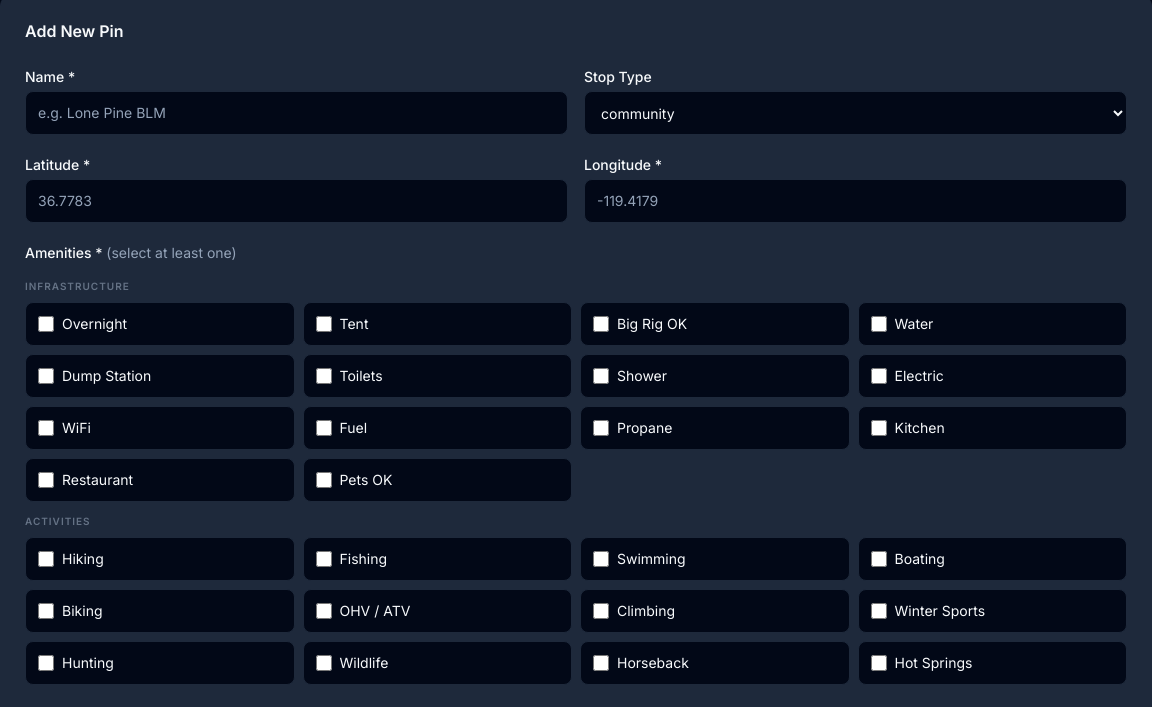
Test: CreatePinForm › shows required field error when name is empty on submit (4.4)
This screenshot has width=1152, height=707.
Note: Fill lat/lng and amenity but leave name empty
Type "37.5" into the number field labelled "Latitude *". click: (296, 201)
box: [25,179,568,223]
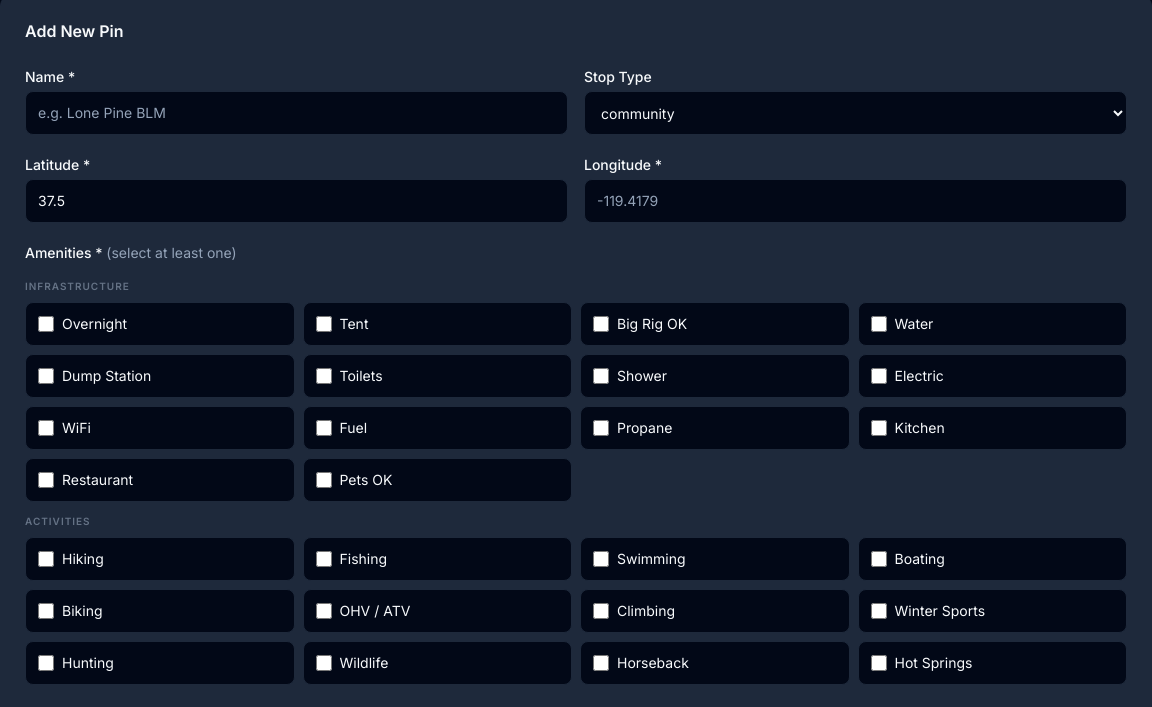
Type "-107.5" into the number field labelled "Longitude *". click: (856, 201)
box: [584,179,1127,223]
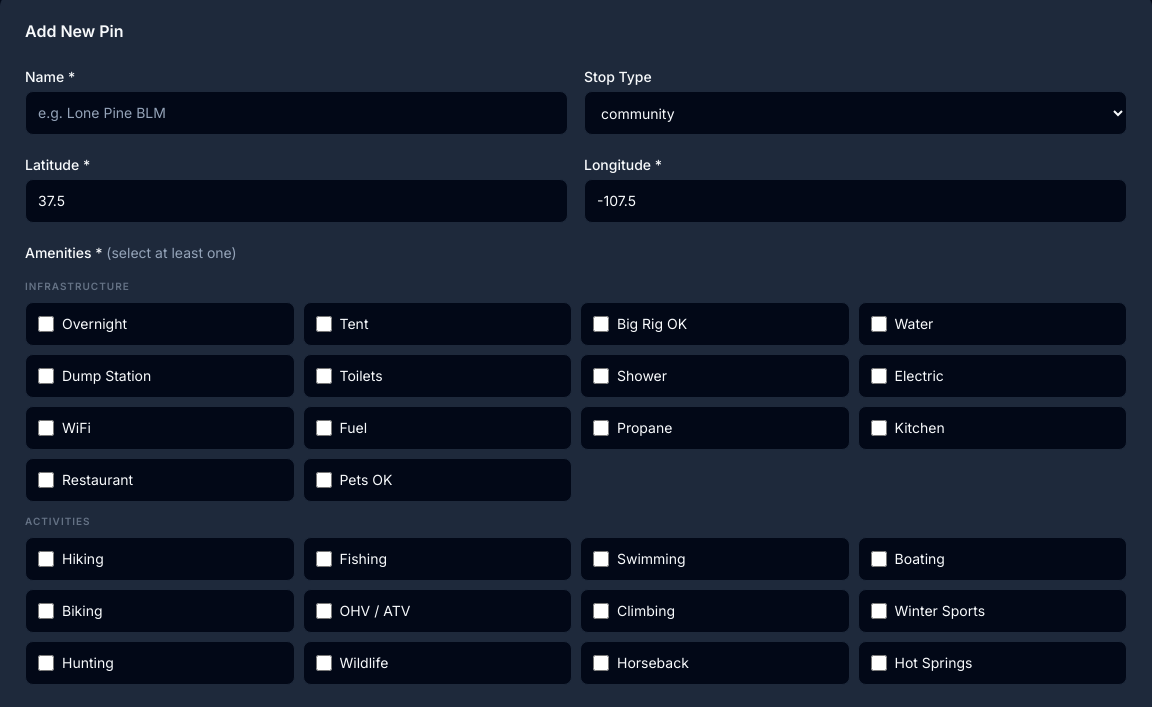
Click the checkbox labelled "Water". click: (878, 324)
box: [870,316,886,332]
(page scrolled)
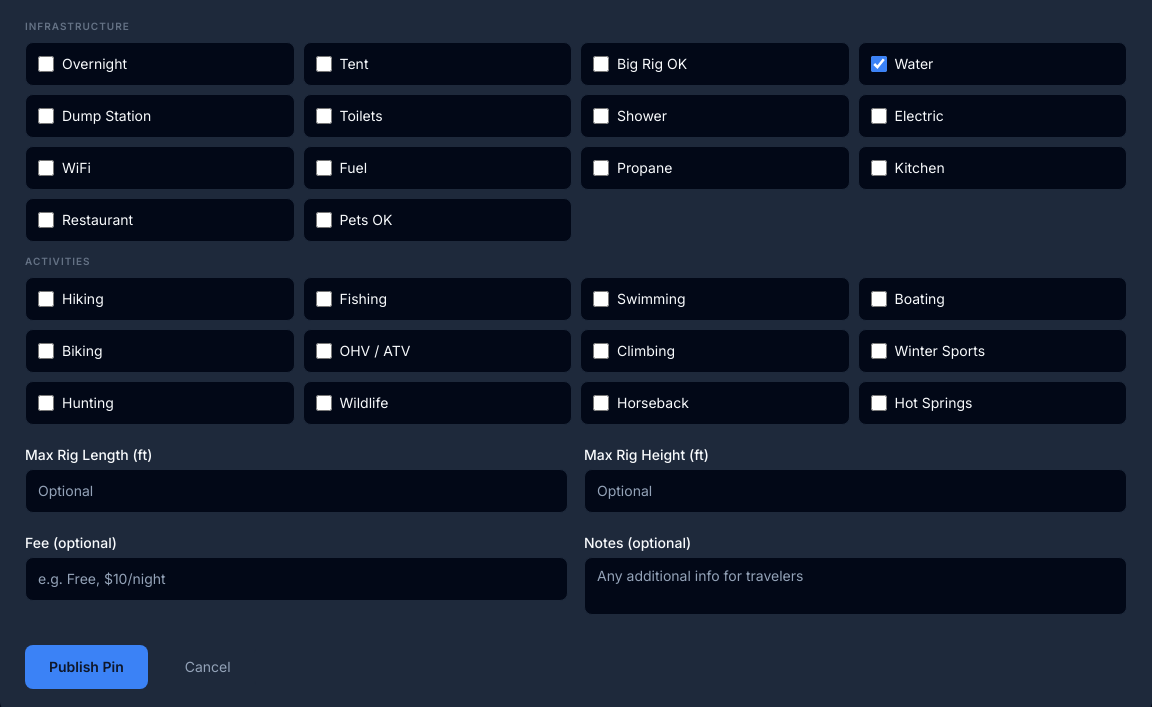
Click the button "Publish Pin". click: (86, 667)
box: [25,645,148,689]
(page scrolled)
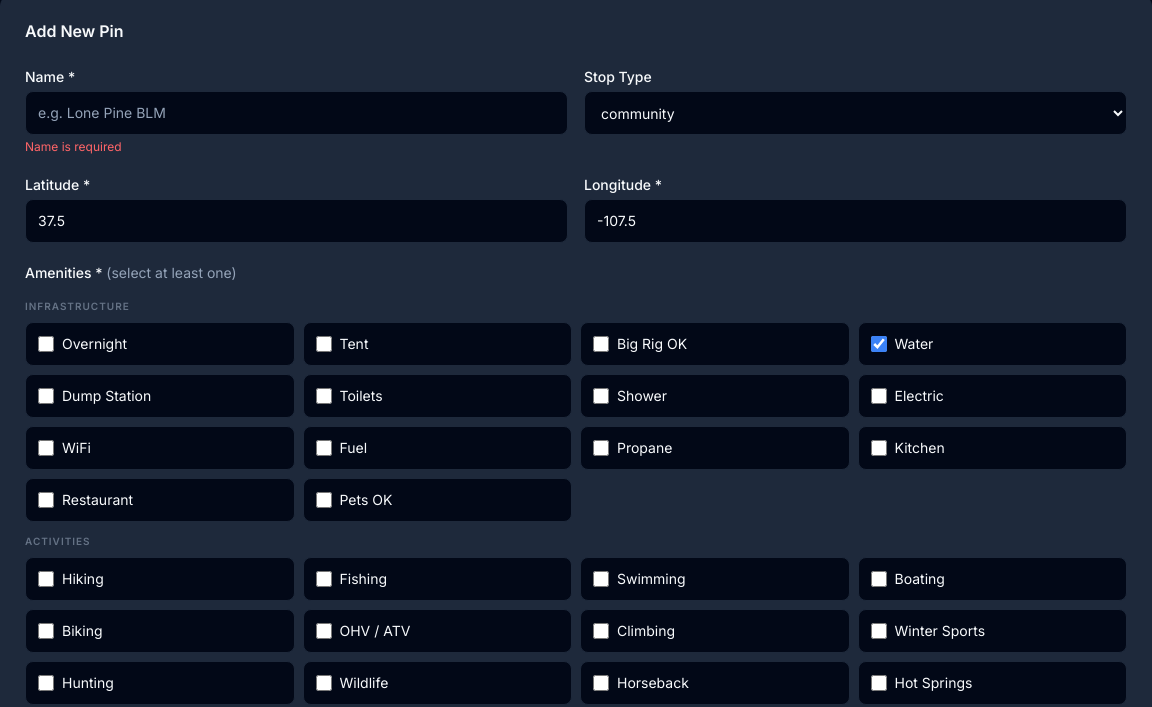
Now the text "Name is required" is shown, box [25,139,122,154]
